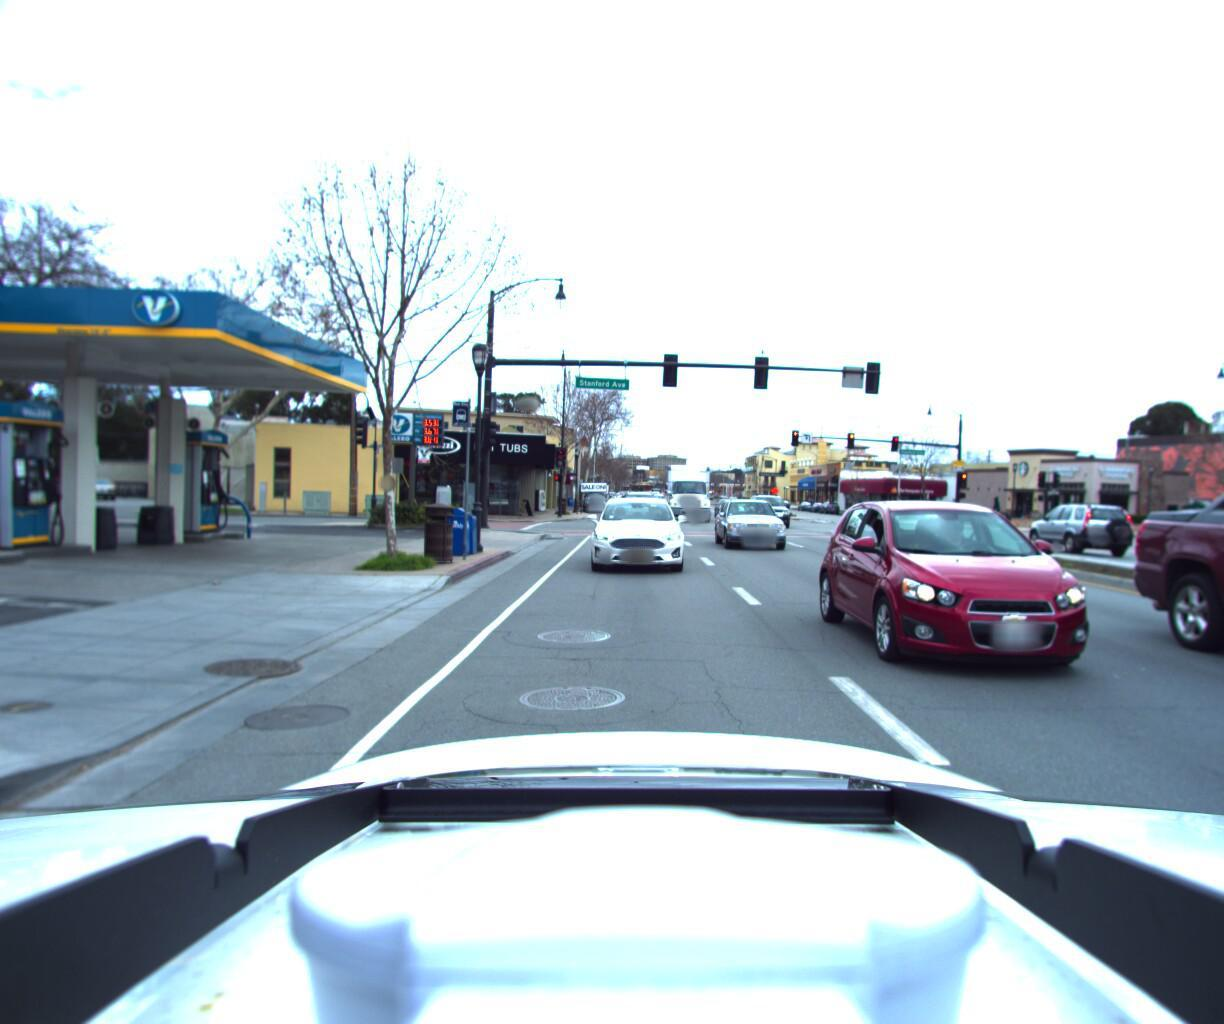car: (829, 498, 1224, 735), (1162, 411, 1224, 893), (582, 498, 684, 589), (1015, 501, 1149, 564), (708, 502, 796, 567), (1133, 510, 1224, 573), (742, 494, 798, 535), (612, 498, 652, 539), (570, 483, 604, 520), (578, 501, 602, 522)
truck: (655, 468, 717, 534)
